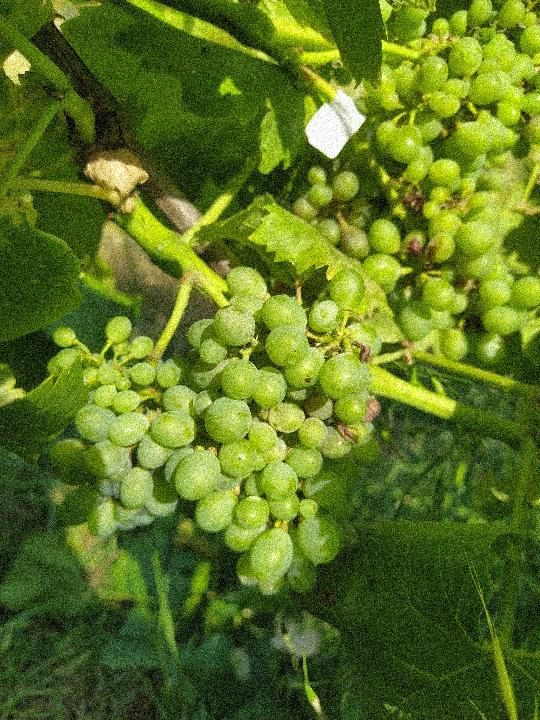grape: (38, 261, 393, 603)
